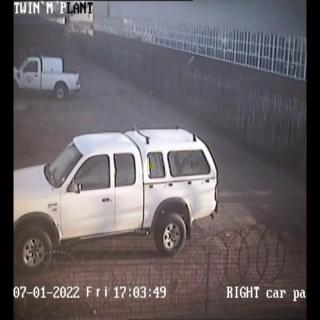car: (13, 128, 219, 276), (14, 54, 80, 100)
